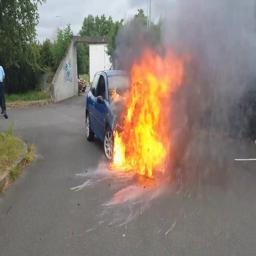fire: (112, 35, 192, 178)
